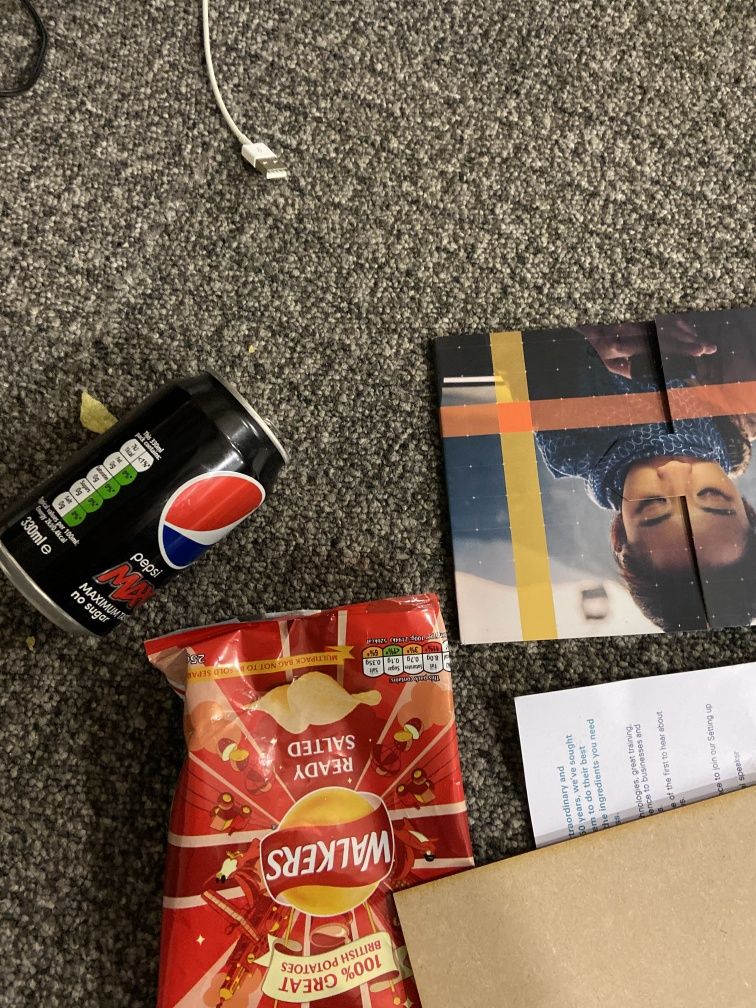can_black: (1, 354, 289, 648)
